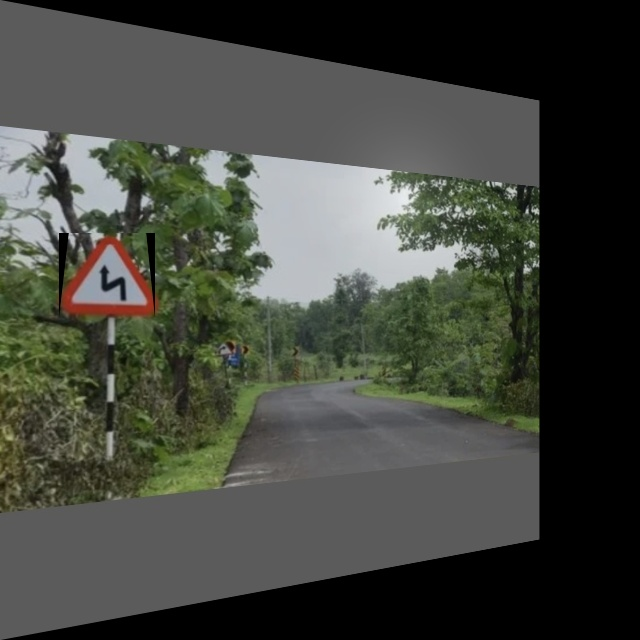Left_Reverse_Bend: (59, 233, 155, 318)
